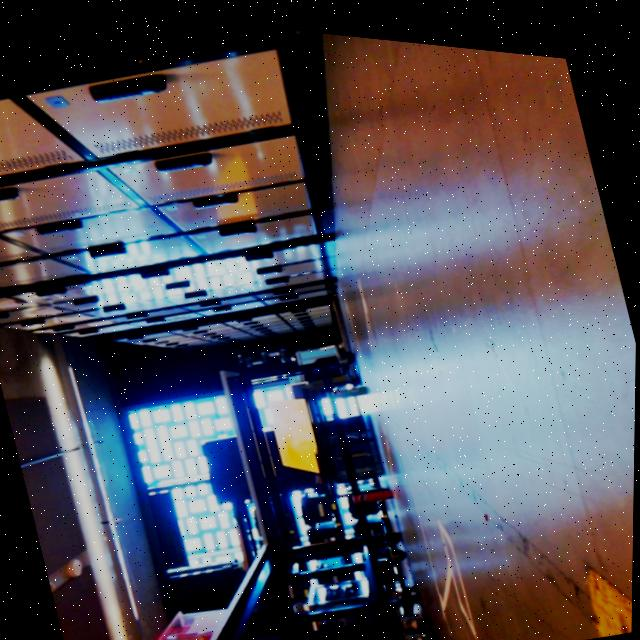greenpringles: (321, 364, 377, 403)
redpringles: (348, 470, 399, 504)
